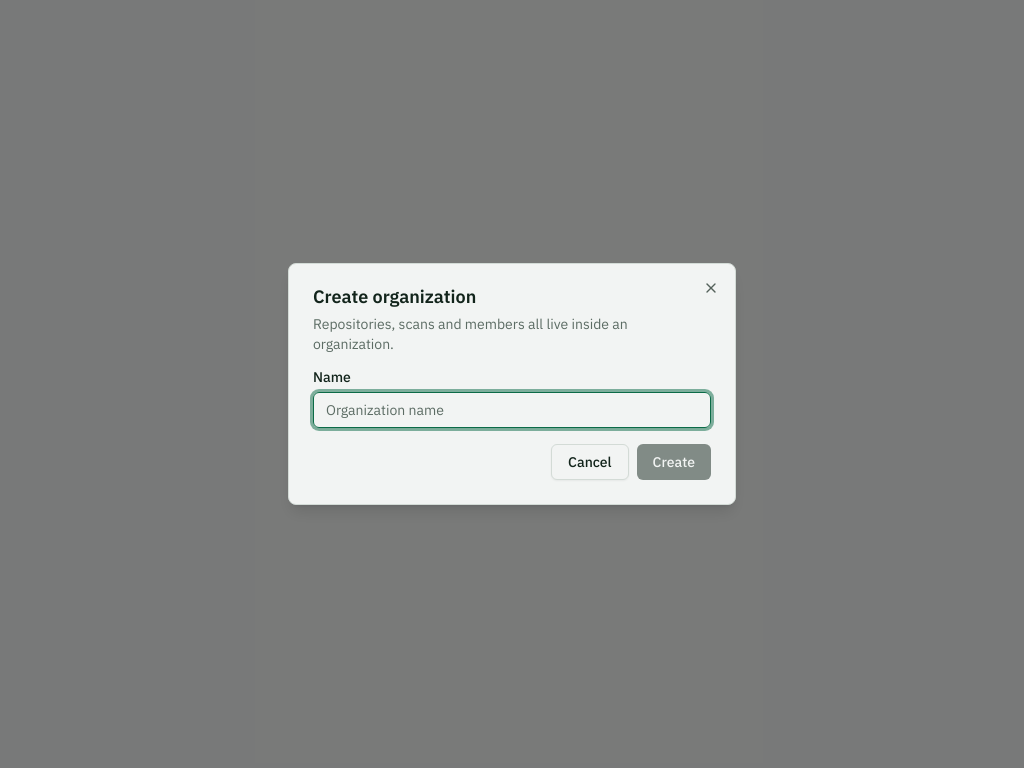
Test: CreateOrgDialog › surfaces the API error instead of failing silently
Type "Acme Inc" into the field with placeholder "Organization name" at (512, 410), box left=313, top=392, right=711, bottom=428
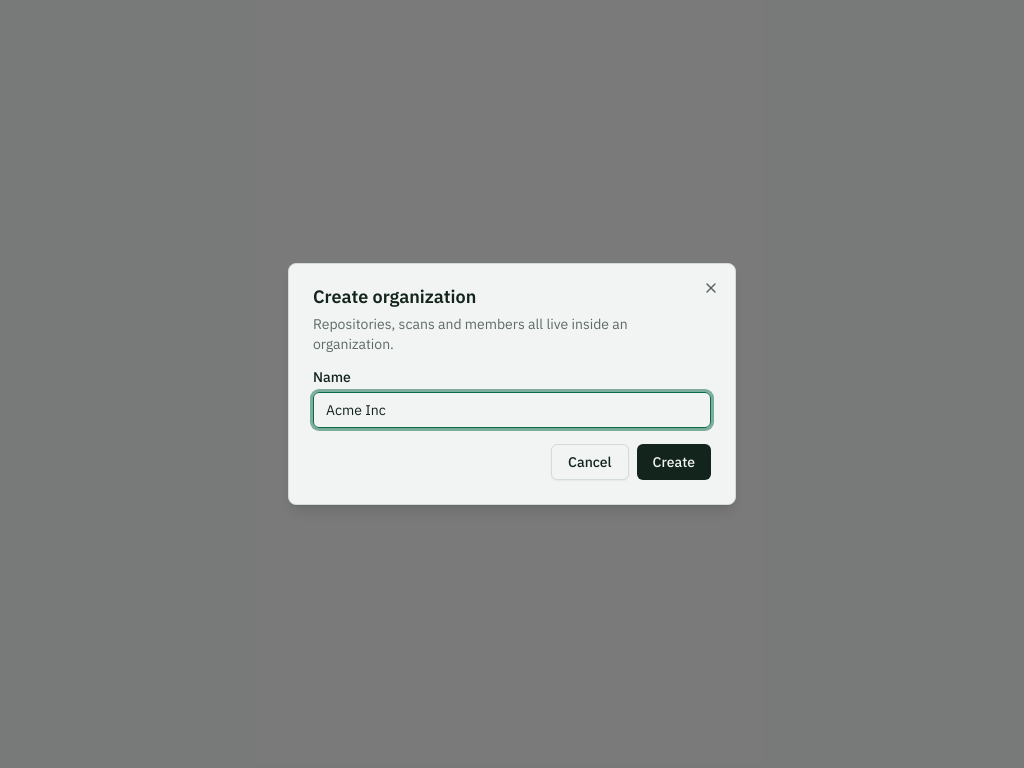
Click the button "Create" at (674, 462), box left=637, top=444, right=711, bottom=480
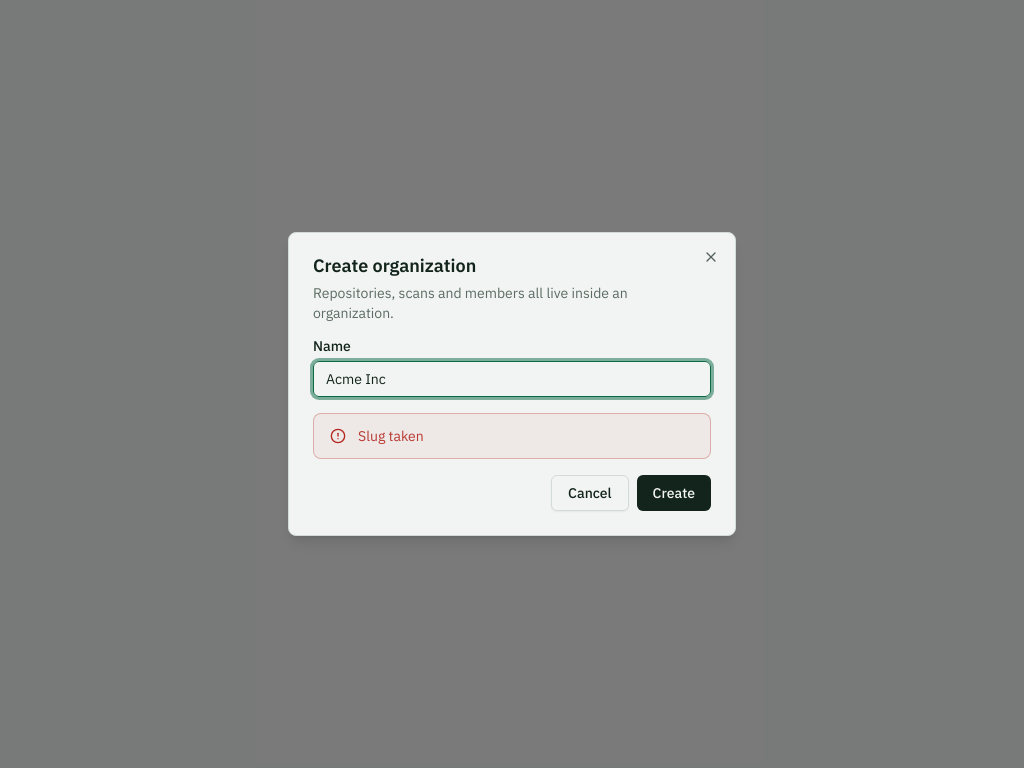
Expected: the message reads "Slug taken", left=358, top=427, right=424, bottom=445
